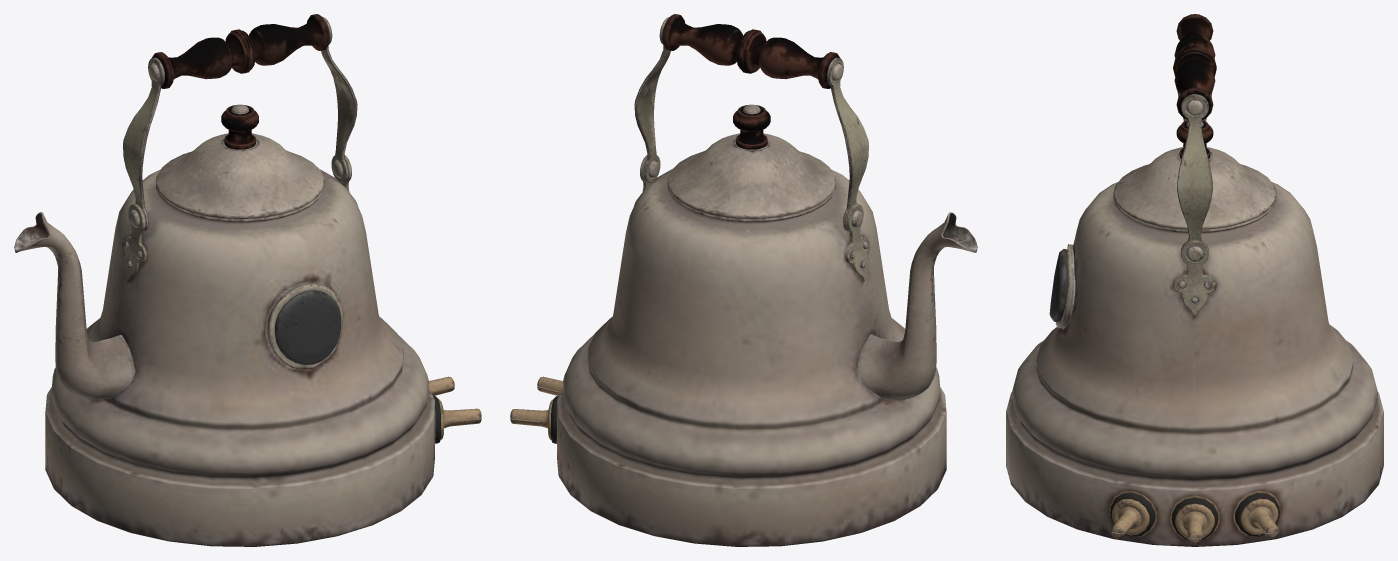
The model's file is ph-kettle.glb.
3 views of the same model, side by side, from view 1: azimuth 30°, elevation 25°; view 2: azimuth 150°, elevation 25°; view 3: azimuth 270°, elevation 25° (orthographic). The views are drawn at different scales.
Visible parts, largest first — view 1: vintage_electric_kettle; view 2: vintage_electric_kettle; view 3: vintage_electric_kettle.
Part boxes in pixels (x1,y1,x2,y2): vintage_electric_kettle: [14, 14, 481, 546]; vintage_electric_kettle: [510, 14, 977, 546]; vintage_electric_kettle: [1006, 14, 1383, 546].
Size of the model in its own units: 0.3209 by 0.3047 by 0.2486.
2 materials, 2 textured.
